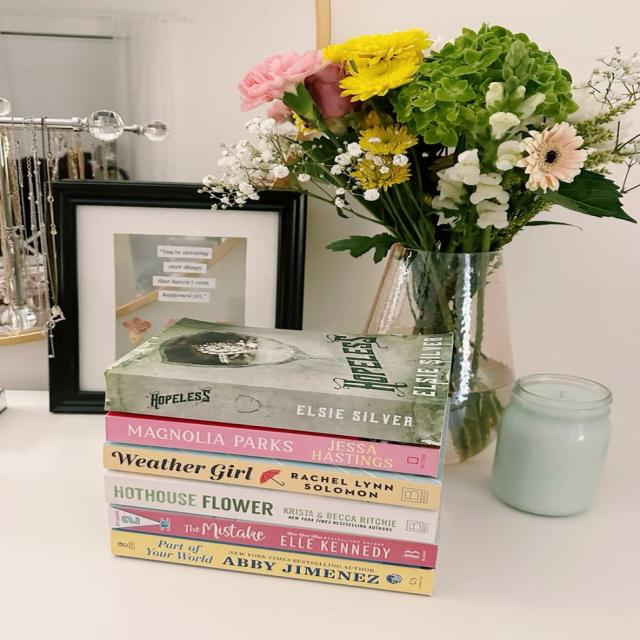book: (106, 318, 450, 447), (105, 472, 438, 545), (103, 444, 440, 510), (105, 412, 437, 477), (110, 504, 437, 569), (111, 532, 434, 595)
candle: (490, 373, 611, 516)
flowers: (202, 24, 639, 262)
